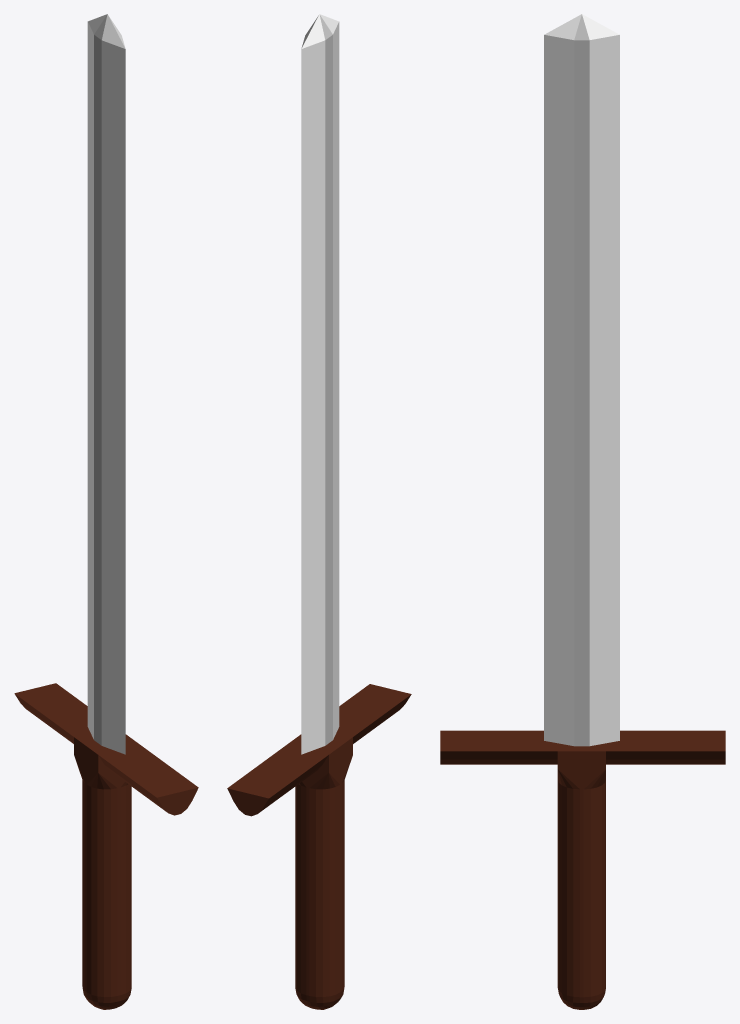
Rendered from épée.fbx.
3 views of the same model, side by side, from view 1: azimuth 30°, elevation 25°; view 2: azimuth 150°, elevation 25°; view 3: azimuth 270°, elevation 25° (orthographic).
Visible parts, largest first — view 1: Cube; view 2: Cube; view 3: Cube.
Part boxes in pixels (x1,y1,x2,y2): Cube: (14, 14, 198, 1009); Cube: (227, 14, 411, 1009); Cube: (440, 14, 725, 1009).
Bounding box in the file's own units: 9.04 × 205 × 53.35.
